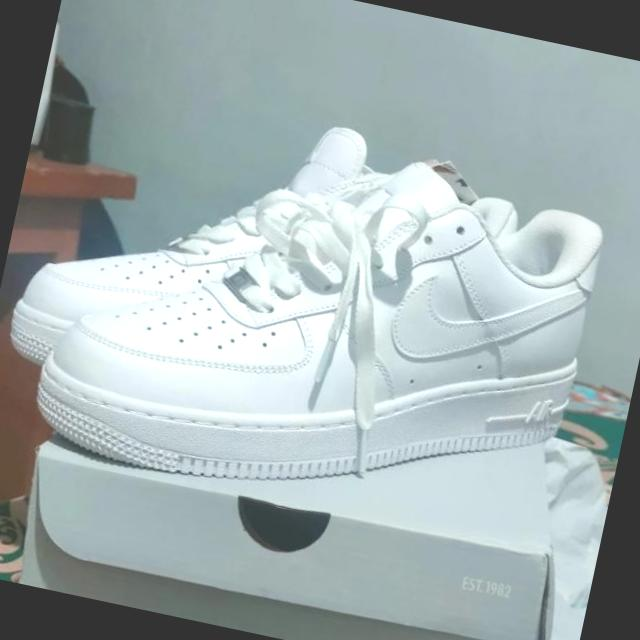nike_original_airforce: (21, 90, 623, 557), (0, 65, 603, 473)
